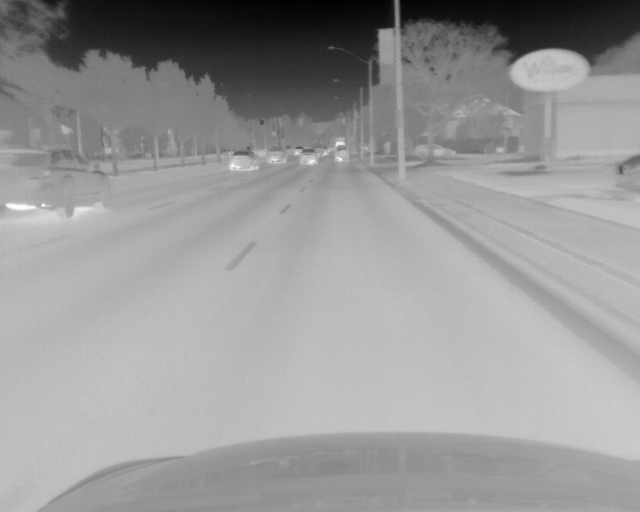car: (1, 147, 112, 221), (410, 141, 457, 160), (228, 149, 260, 174), (265, 145, 285, 165), (334, 143, 349, 166), (300, 147, 317, 167), (315, 146, 330, 158), (293, 146, 300, 155)
